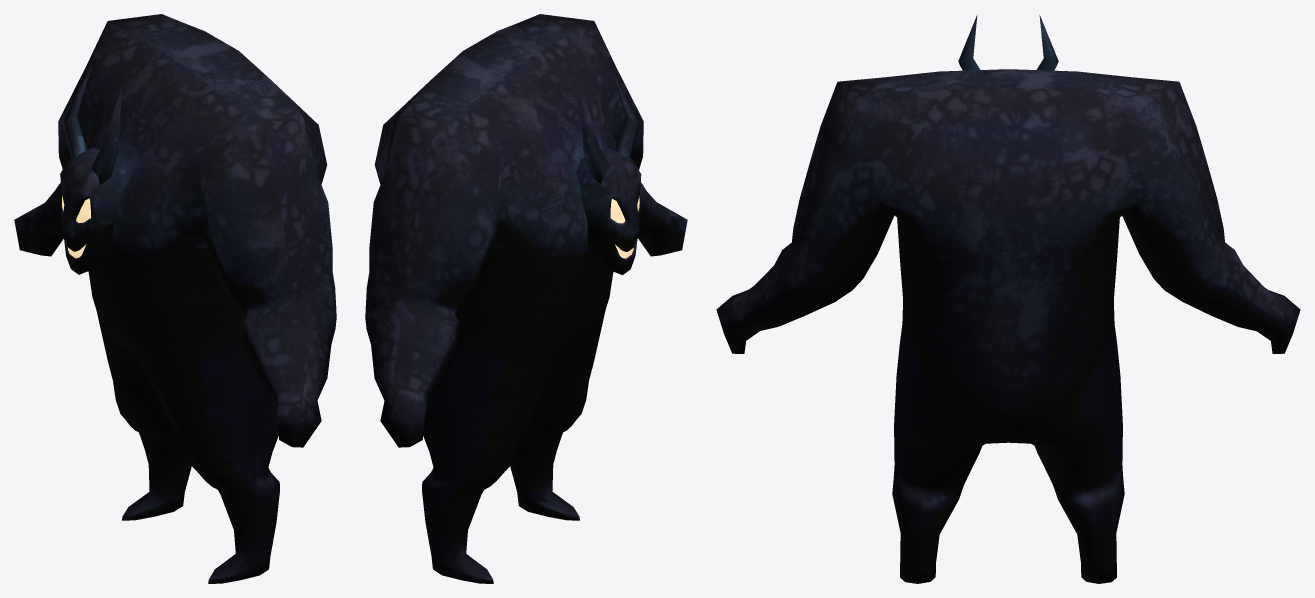
Rendered from Tank.fbx.
3 views of the same model, side by side, from view 1: azimuth 30°, elevation 25°; view 2: azimuth 150°, elevation 25°; view 3: azimuth 270°, elevation 25° (orthographic). The views are drawn at different scales.
Visible parts, largest first — view 1: Tank; view 2: Tank; view 3: Tank.
Boxes of the visible parts, x1=… form: Tank: x1=14, y1=14, x2=336, y2=583; Tank: x1=365, y1=14, x2=687, y2=583; Tank: x1=716, y1=15, x2=1300, y2=583.
Size of the model in its own units: 7.54 by 14.31 by 14.68.
